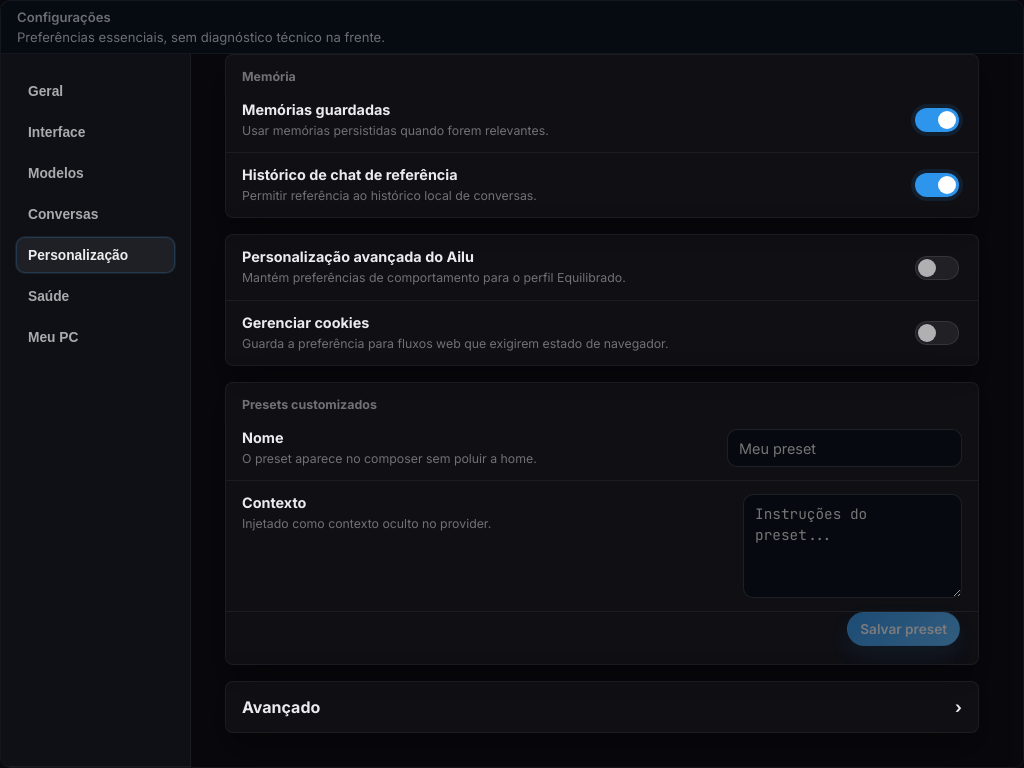
Test case: SettingsPanel › Personalização mostra memória e funções avançadas persistíveis
(page scrolled)
Check: the text "Memórias guardadas" is shown, box [242,101,390,118]
Check: the text "Histórico de chat de referência" is shown, box [242,166,458,183]
Click the button "Avançado ›".
click(281, 707)  # box [226,682,978,732]
(page scrolled)
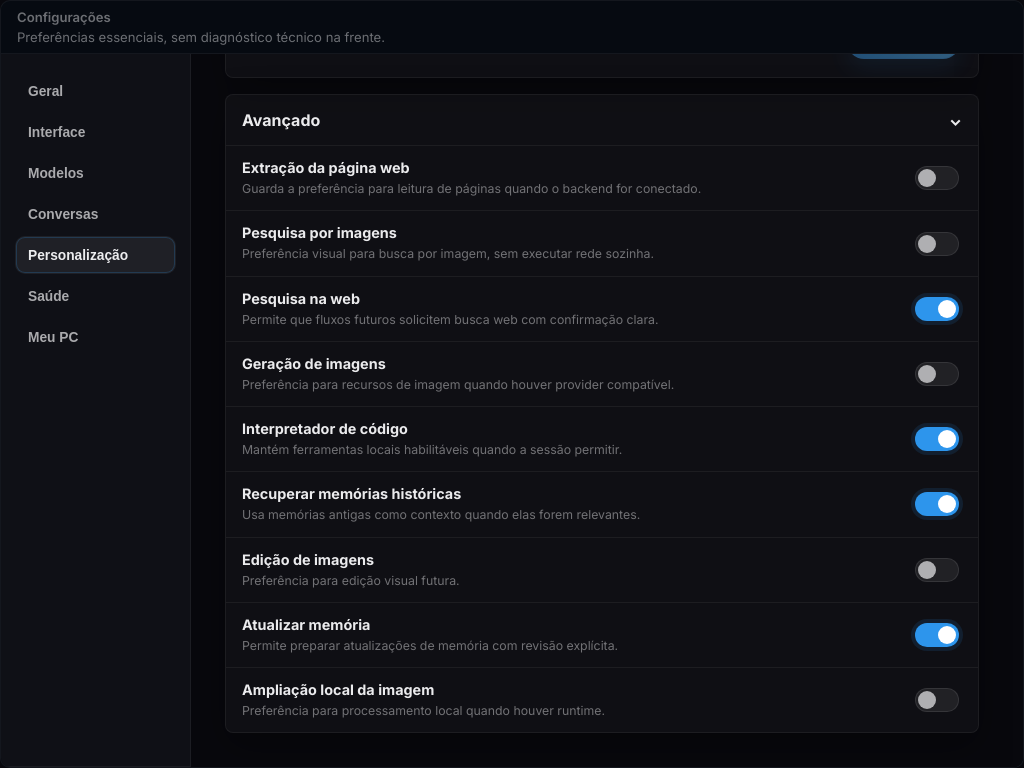
Check: the text "Extração da página web" is shown, box [242,159,410,176]
Check: the text "Pesquisa por imagens" is shown, box [242,224,397,241]
Check: the text "Pesquisa na web" is shown, box [242,290,360,307]
